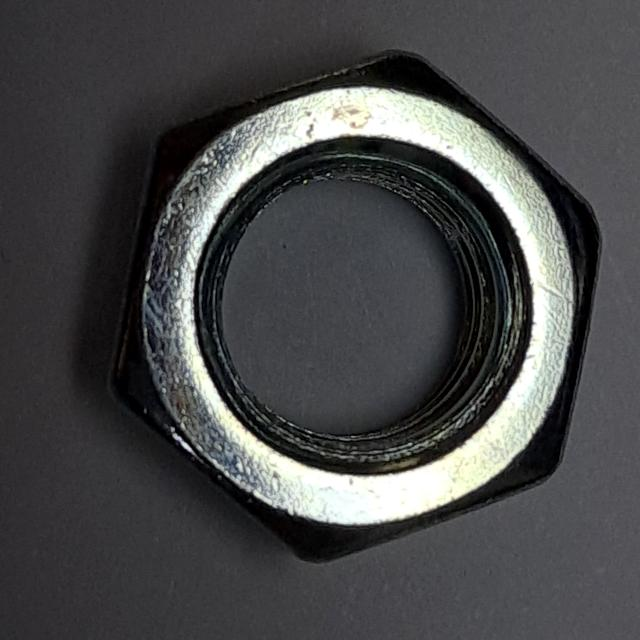Excellent: (94, 45, 611, 580)
